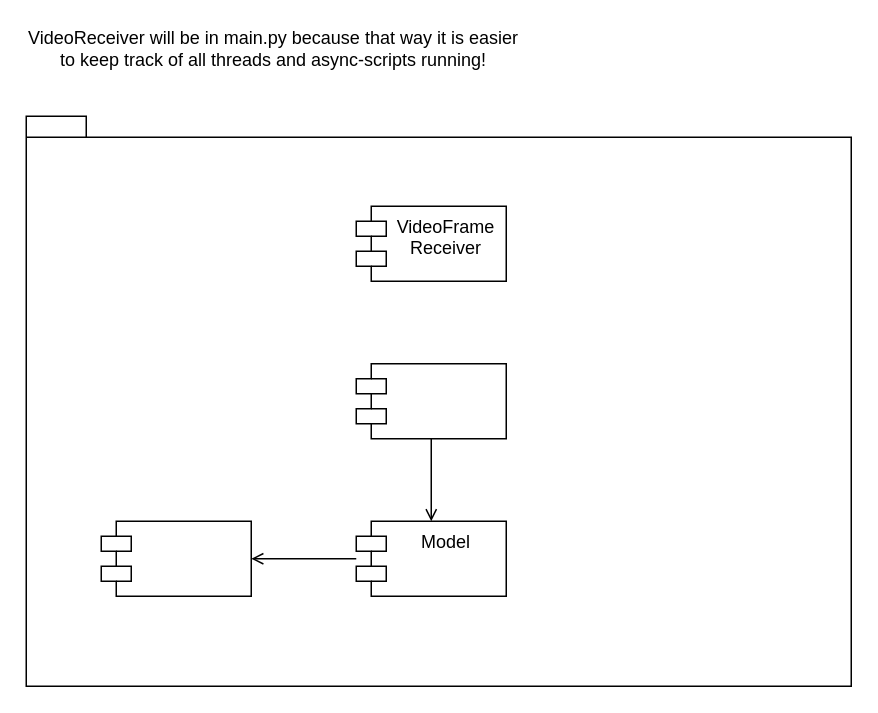
Image size: 878x713. Some labels were removed from this diagram. Here are the shapes that lost their labels. From the top down, the centre of each, then its label:
At point (430, 400): "Controller".
At point (175, 558): "View".
